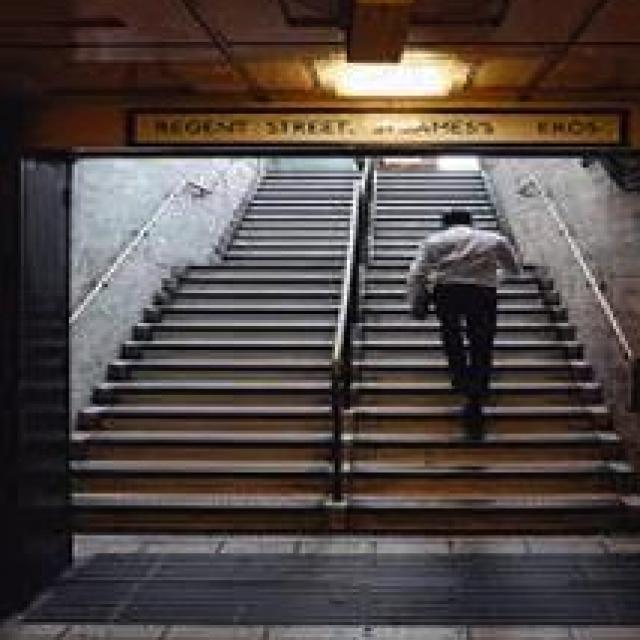upstair: (127, 348, 602, 488)
